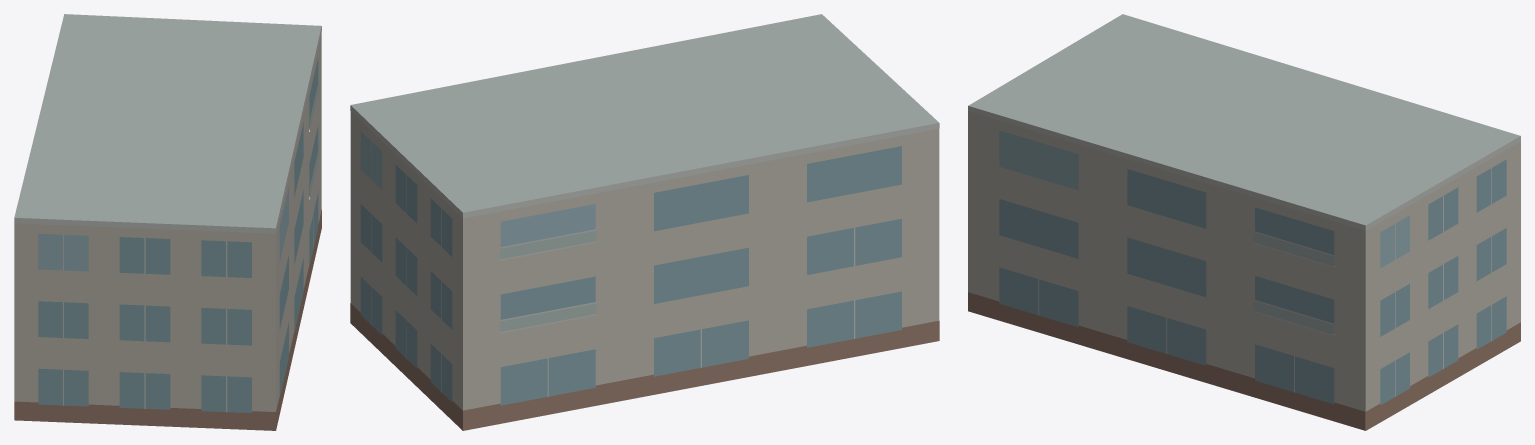
File: survey-upis-32949004.glb
3 renders of one model, left to right at view 1: azimuth 30°, elevation 25°; view 2: azimuth 150°, elevation 25°; view 3: azimuth 270°, elevation 25°, orthographic. The views are drawn at different scales.
Visible parts, largest first — view 1: survey-upis-32949004.tmp; view 2: survey-upis-32949004.tmp; view 3: survey-upis-32949004.tmp.
Boxes of the visible parts, <box> form: survey-upis-32949004.tmp: <box>14,14,321,430</box>; survey-upis-32949004.tmp: <box>350,14,939,430</box>; survey-upis-32949004.tmp: <box>968,14,1520,430</box>.
Size of the model in its own units: 20.2 by 9.15 by 22.32.
